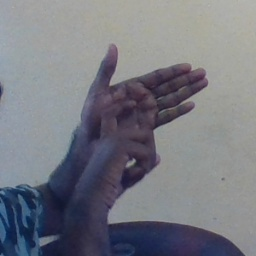R: (72, 38, 213, 183)
